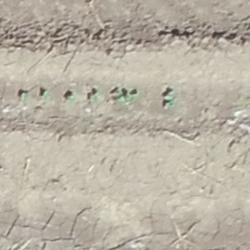cotton: (165, 96, 173, 105), (115, 95, 124, 102), (67, 97, 76, 104), (123, 95, 135, 100), (91, 96, 98, 102), (43, 92, 50, 97)
